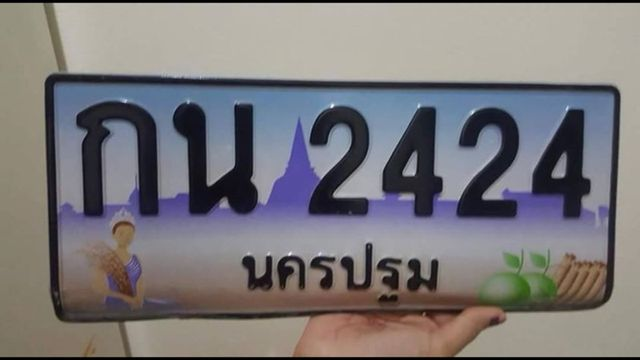Non-Bangkok: (221, 228, 456, 306)
